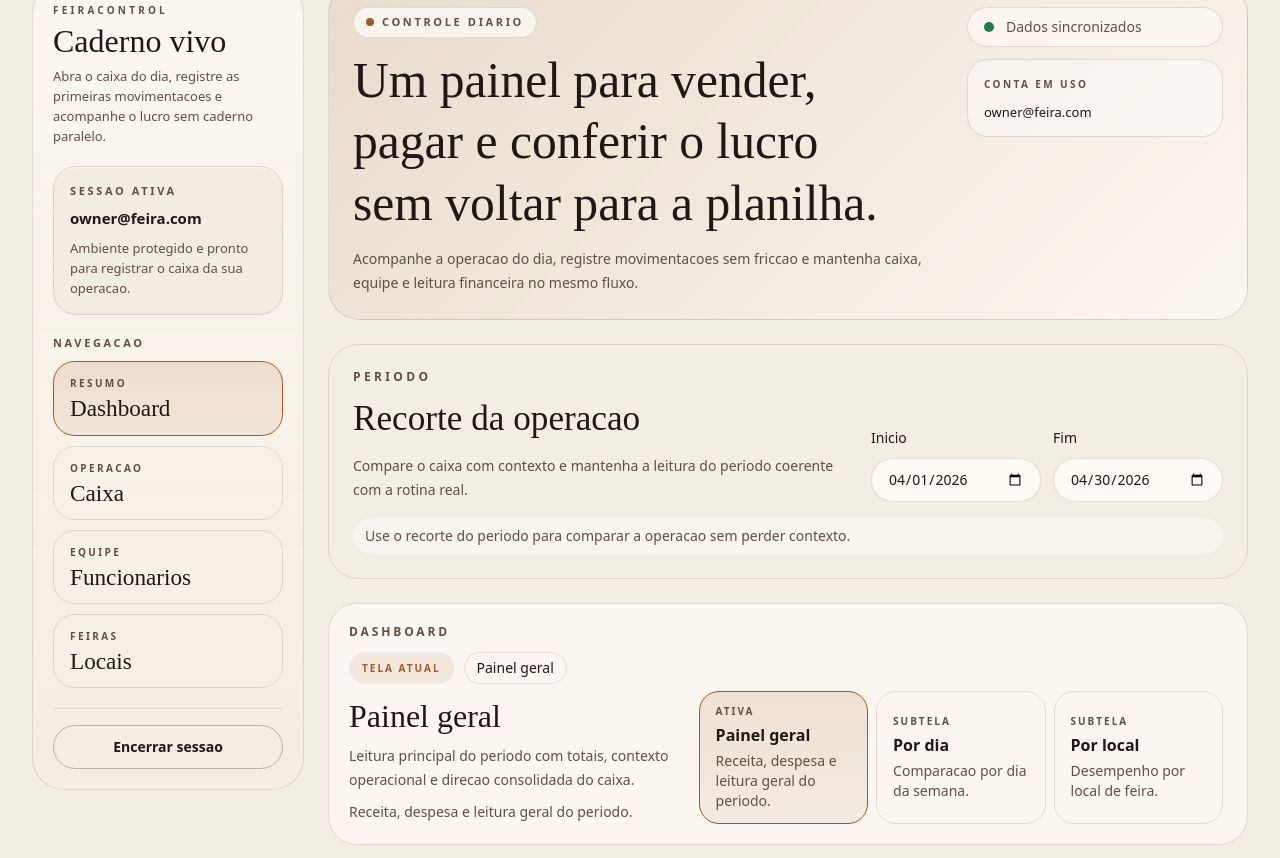
Test: App context flows › limpa feedback stale ao trocar de modulo e voltar
This screenshot has width=1280, height=858.
Click the button with test id "nav-cash" at (168, 483), box [53,446,283,520]
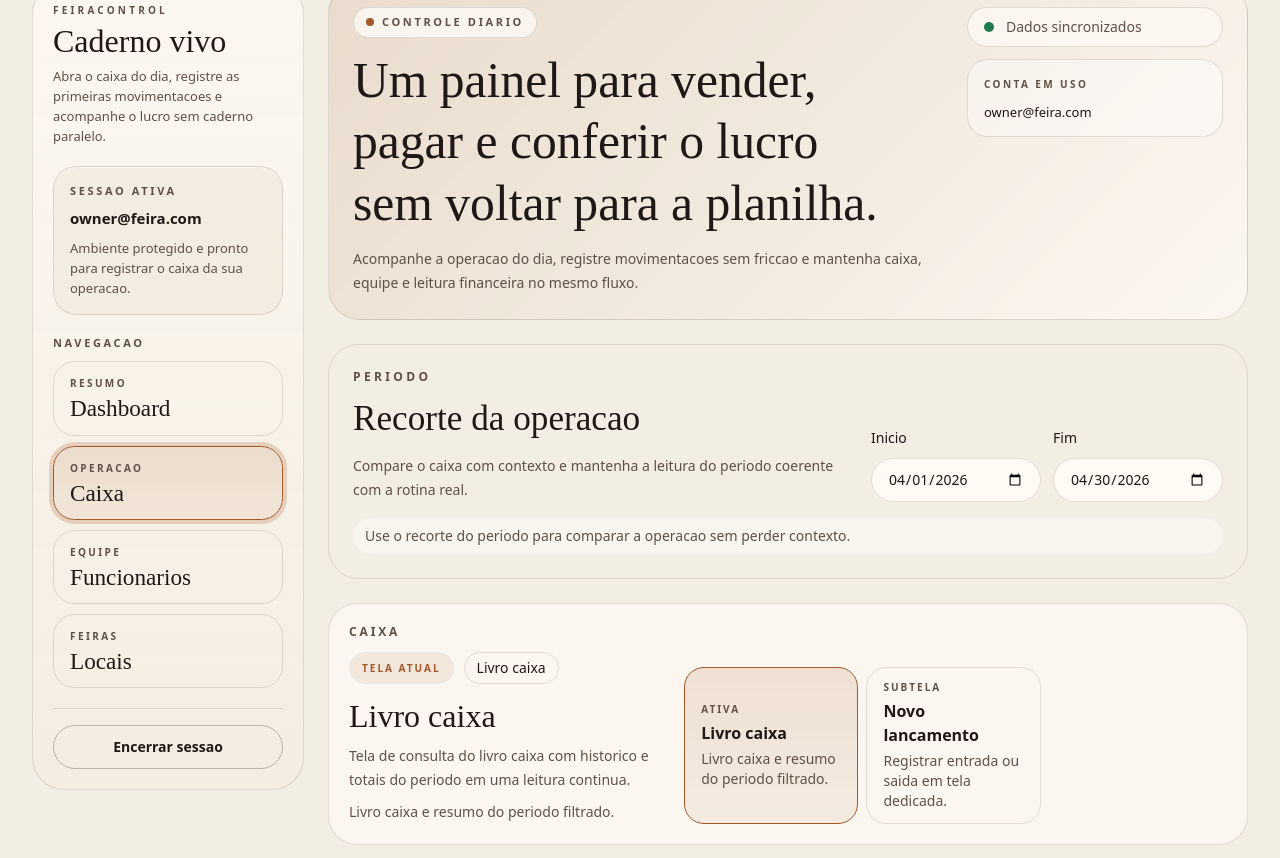
Click the tab "Novo lancamento" at (954, 746), box [866,667,1041,824]
(page scrolled)
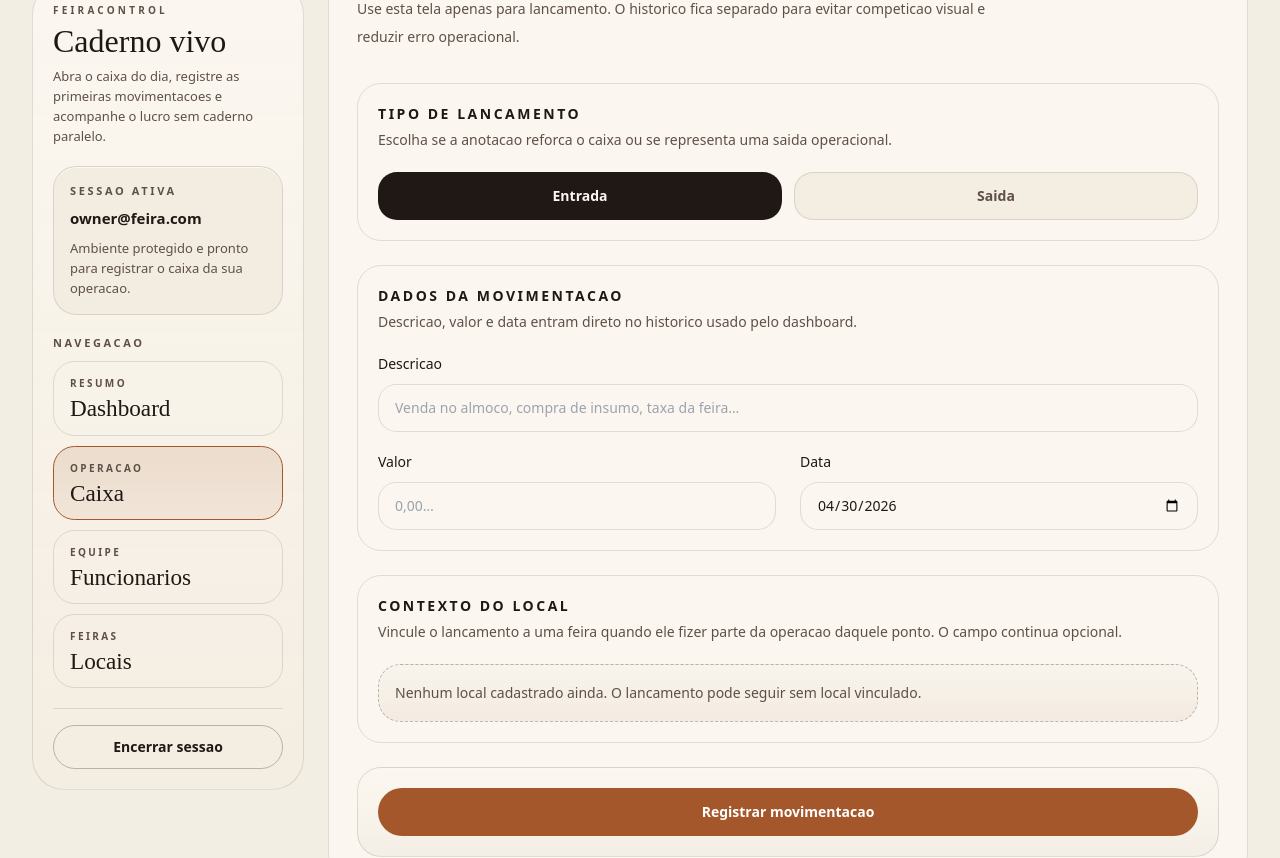
Type "Venda do almoco" into the field labelled "Descricao" at (788, 408), box [378,384,1198,432]
Type "12" into the number field labelled "Valor" at (577, 506), box [378,482,776,530]
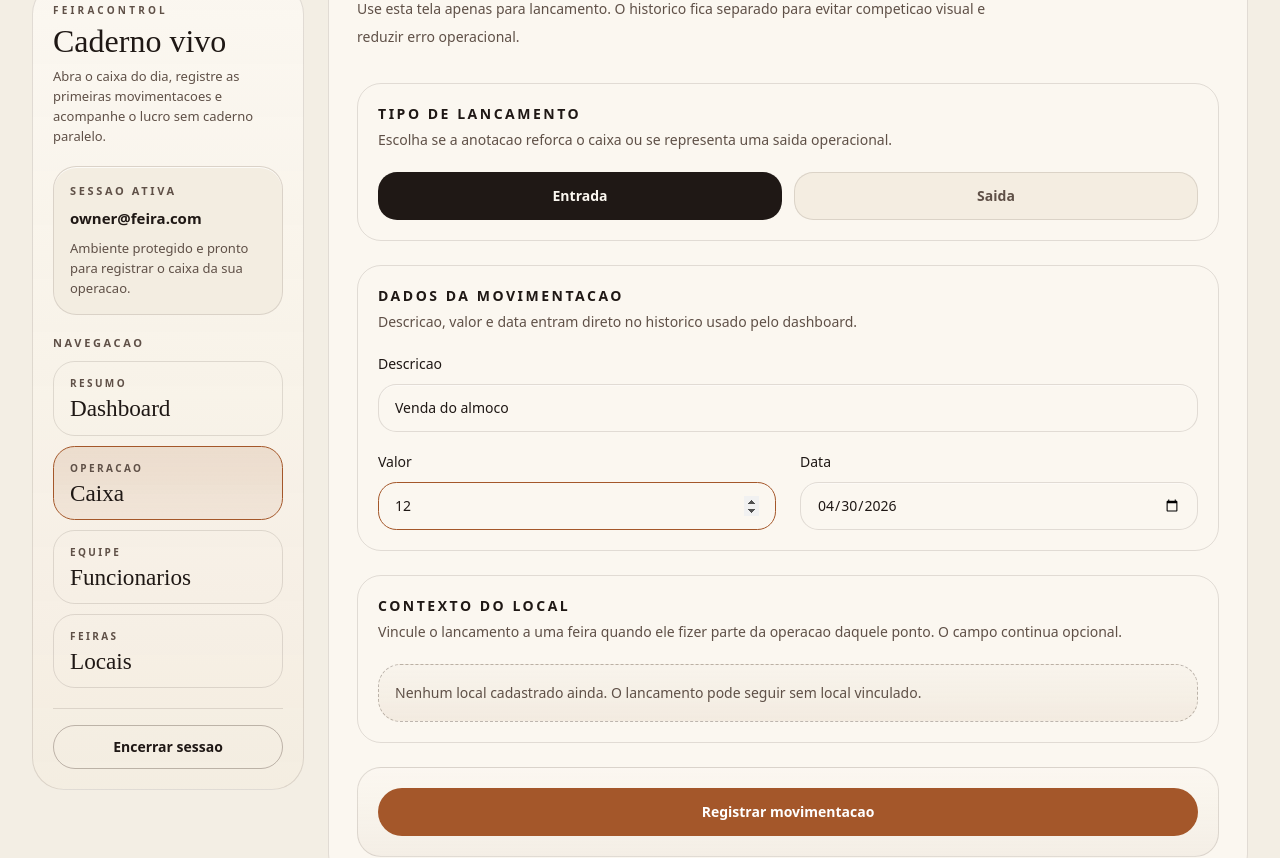
Click the button "Registrar movimentacao" at (788, 812), box [378,788,1198,836]
(page scrolled)
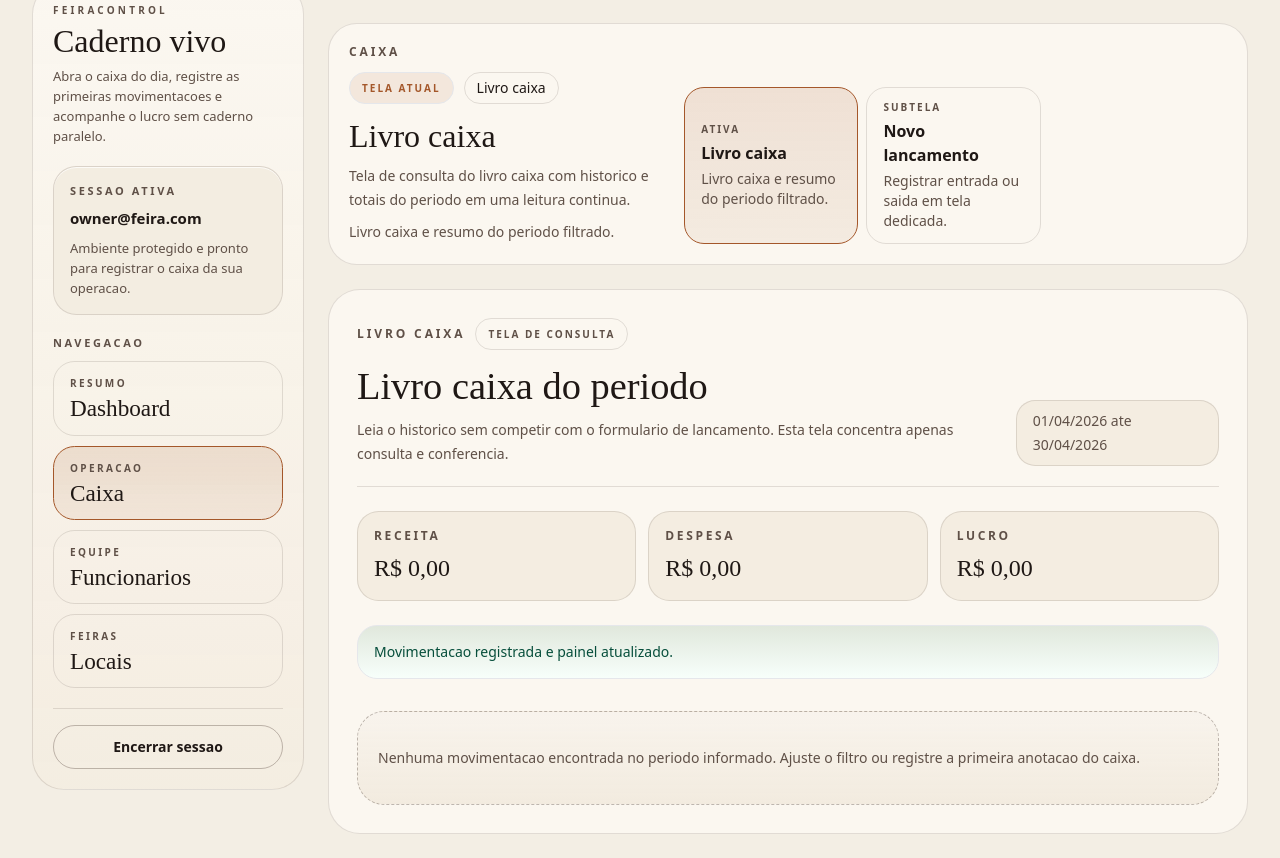
Result: the text "Movimentacao registrada e painel atualizado." is shown at [357,625,1219,679]
Click the button with test id "nav-dashboard" at (168, 398), box [53,361,283,436]
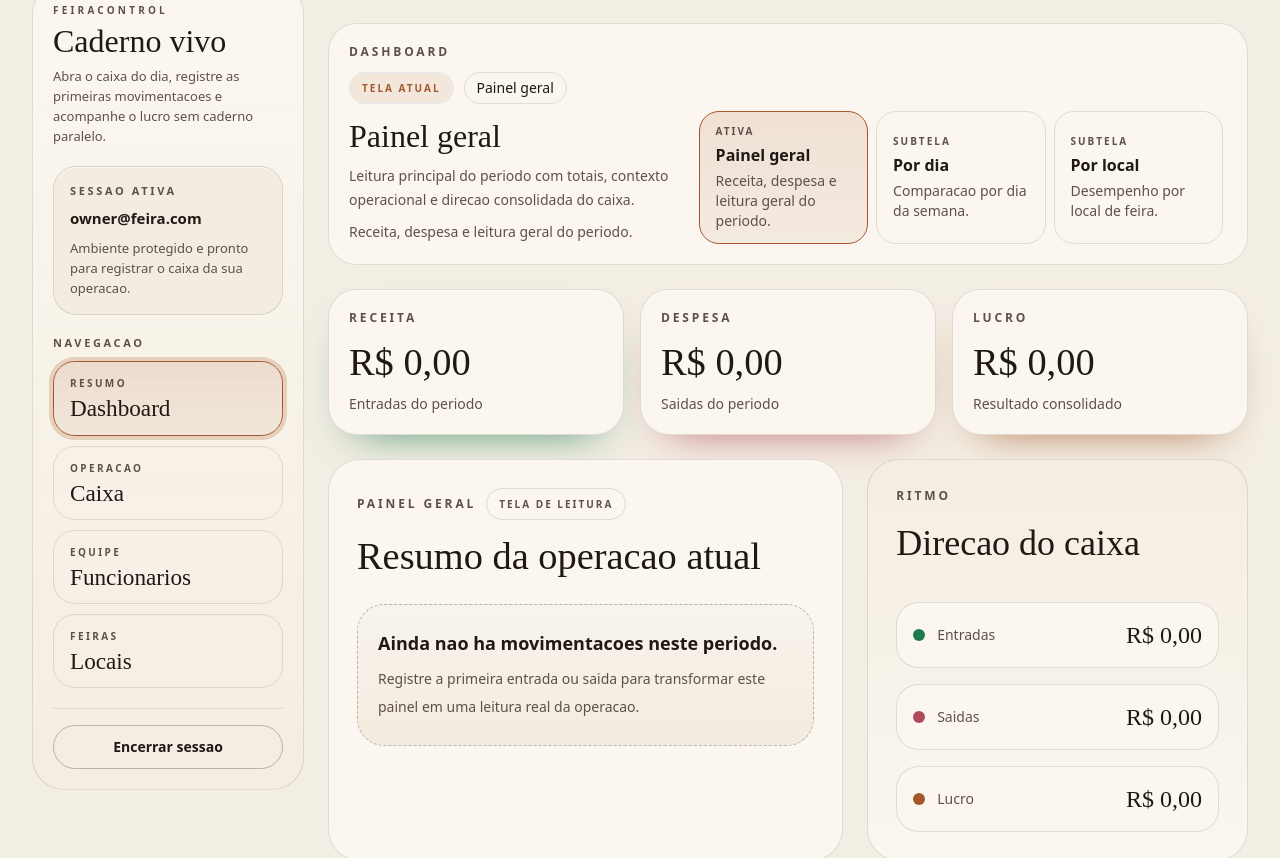
Click the button with test id "nav-cash" at (168, 483), box [53,446,283,520]
(page scrolled)
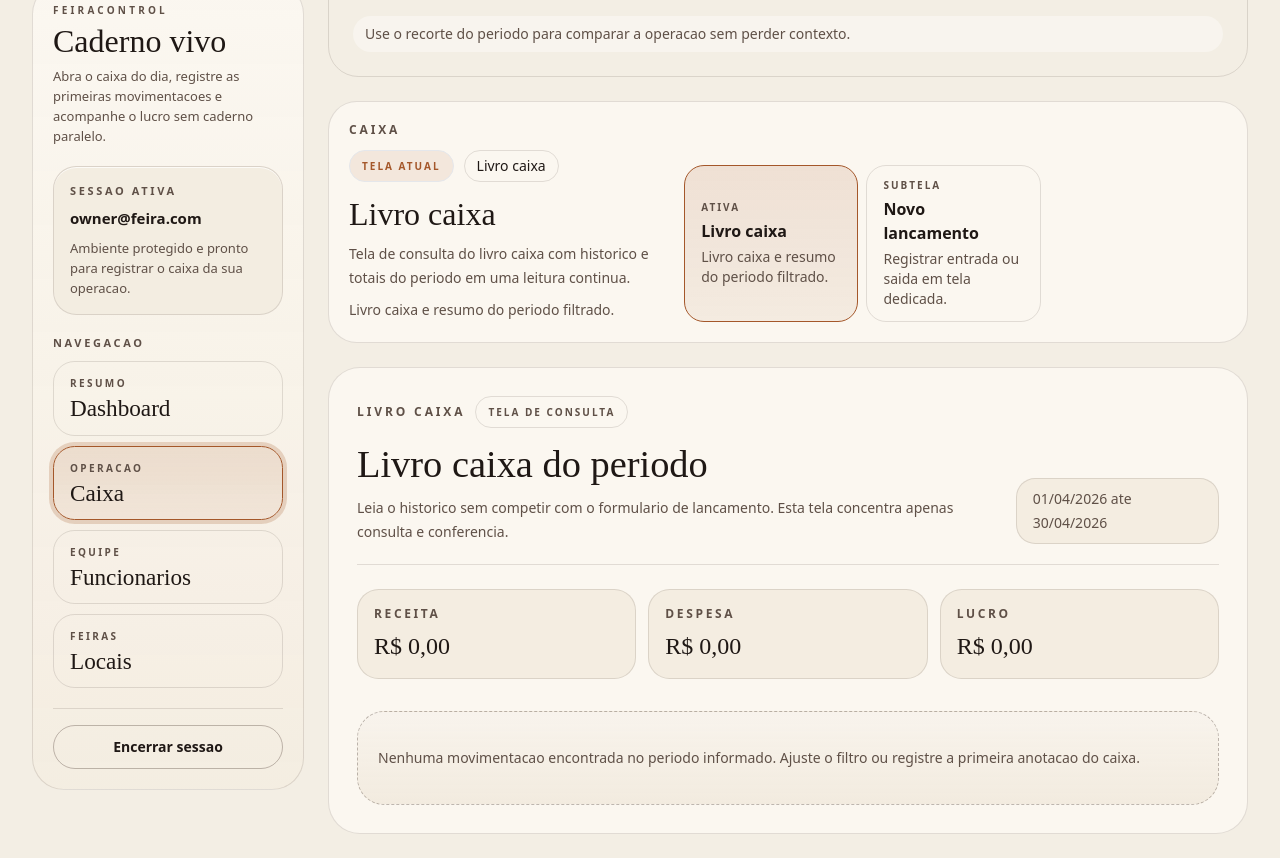
Expected: the text "Movimentacao registrada e painel atualizado." is not shown
Result: the heading "Livro caixa do periodo" is shown at [357,443,708,485]
